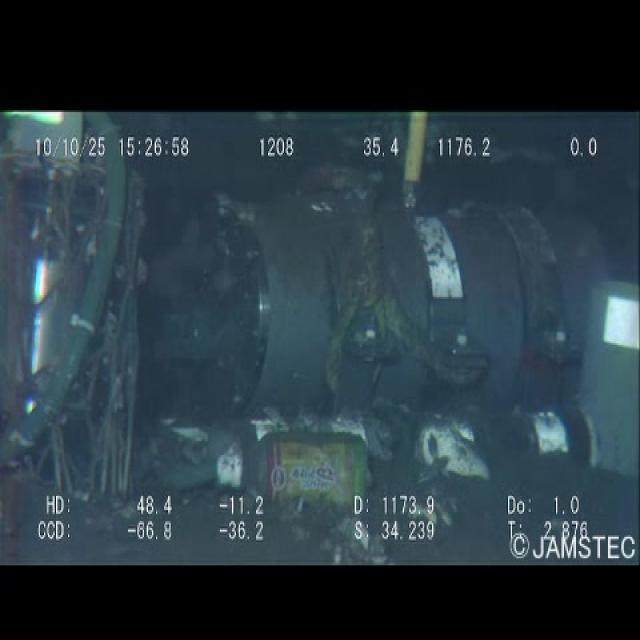plastic: (211, 425, 369, 514)
